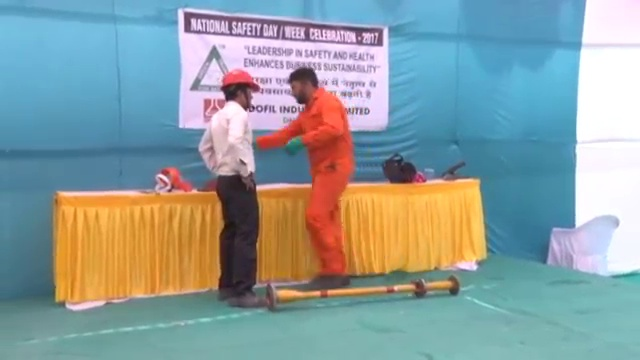helmet: (221, 67, 261, 92)
helmet_off: (288, 68, 319, 105)
helmet_on: (221, 69, 261, 108)
person: (261, 67, 355, 290), (197, 66, 270, 305)
